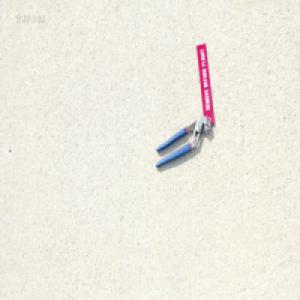Label: (193, 42, 212, 124)
Pliers: (152, 114, 208, 168)
